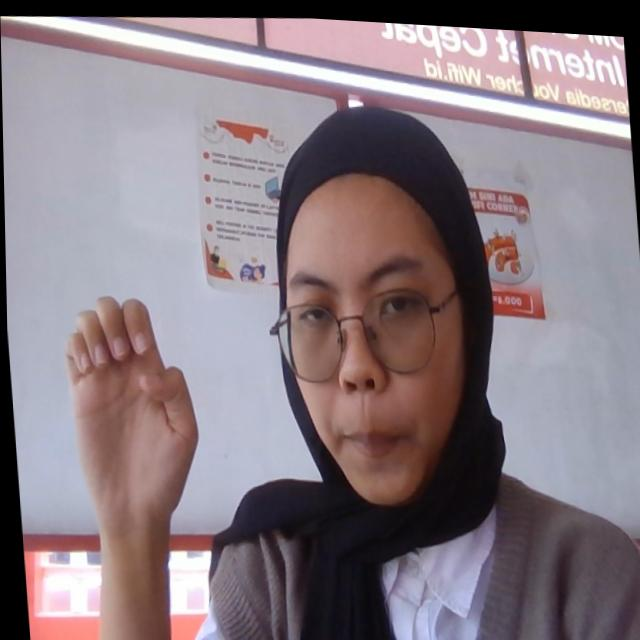E: (58, 288, 205, 527)
